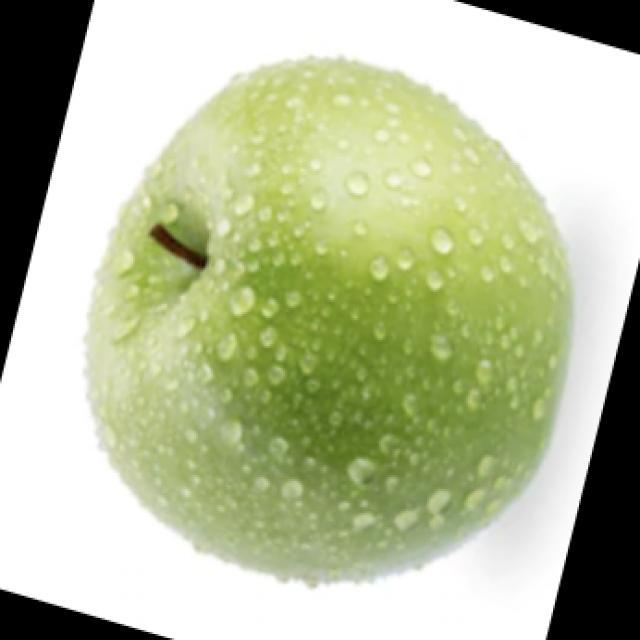Fresh Apple: (100, 63, 568, 557)
